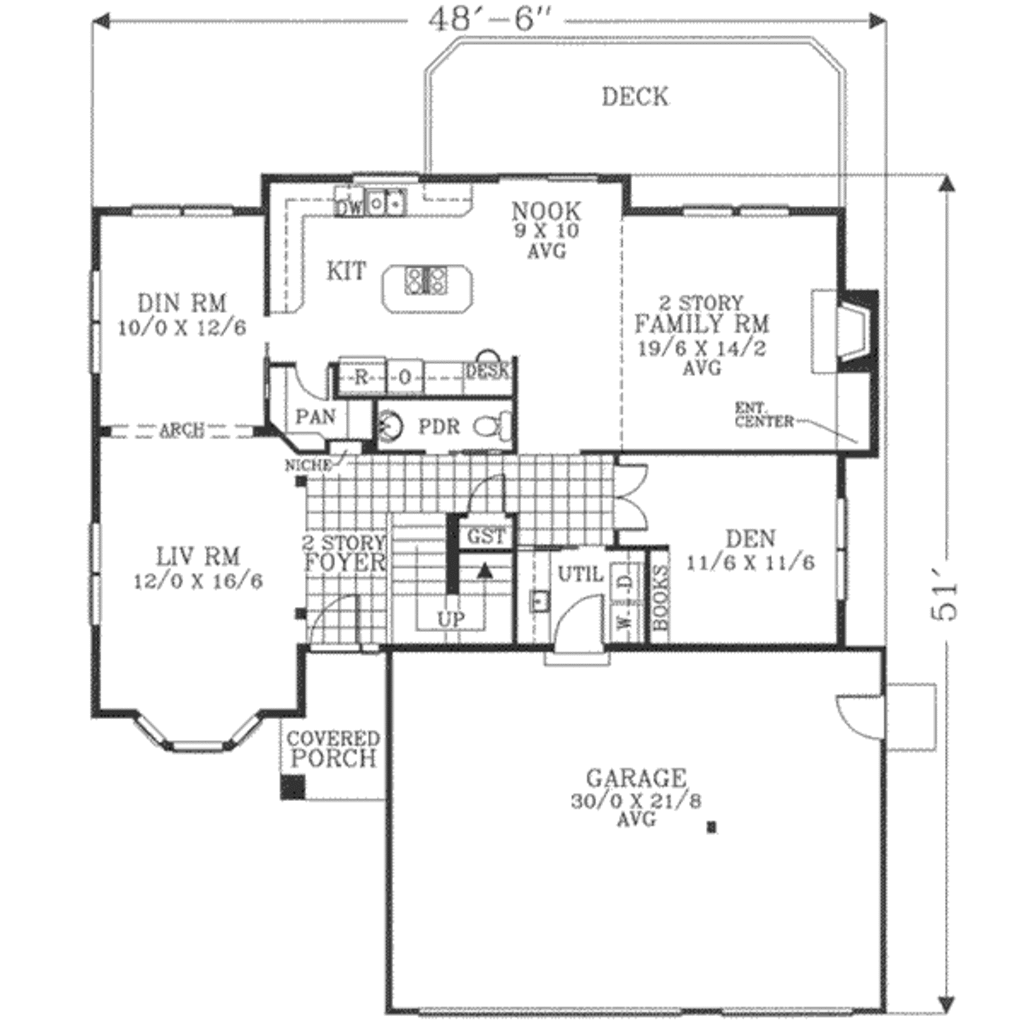door: (542, 592, 615, 671), (820, 685, 896, 744), (301, 597, 368, 649), (607, 465, 652, 539), (285, 362, 334, 416), (453, 468, 511, 511)
kitchen_bar: (377, 252, 480, 333)
large_sink: (461, 400, 519, 449)
small_sink: (371, 405, 411, 454)
twin_sink: (357, 176, 431, 224)
window: (126, 698, 266, 766), (126, 195, 246, 224), (828, 490, 858, 601), (84, 273, 111, 376), (676, 201, 795, 217), (92, 522, 98, 638)
